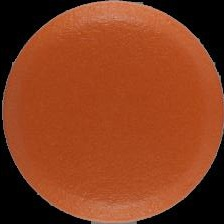0378-2005: (0, 0, 224, 224)
